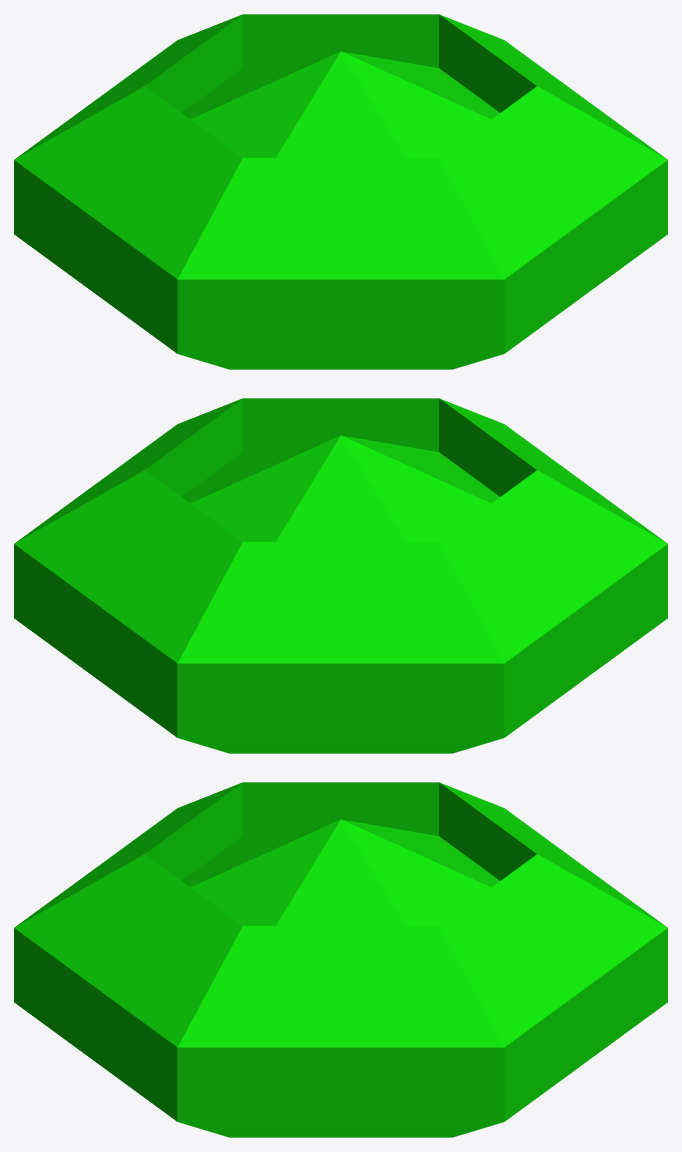
Rendered from 4Disc.fbx.
3 renders of one model, top to bottom at view 1: azimuth 30°, elevation 25°; view 2: azimuth 150°, elevation 25°; view 3: azimuth 270°, elevation 25°, orthographic.
Visible parts, largest first — view 1: 4Disc; view 2: 4Disc; view 3: 4Disc.
Boxes of the visible parts, x1,y1,x2,y2 form: 4Disc: (14,14,667,369); 4Disc: (14,398,667,753); 4Disc: (14,782,667,1137).
Size of the model in its own units: 286 by 163 by 330.
